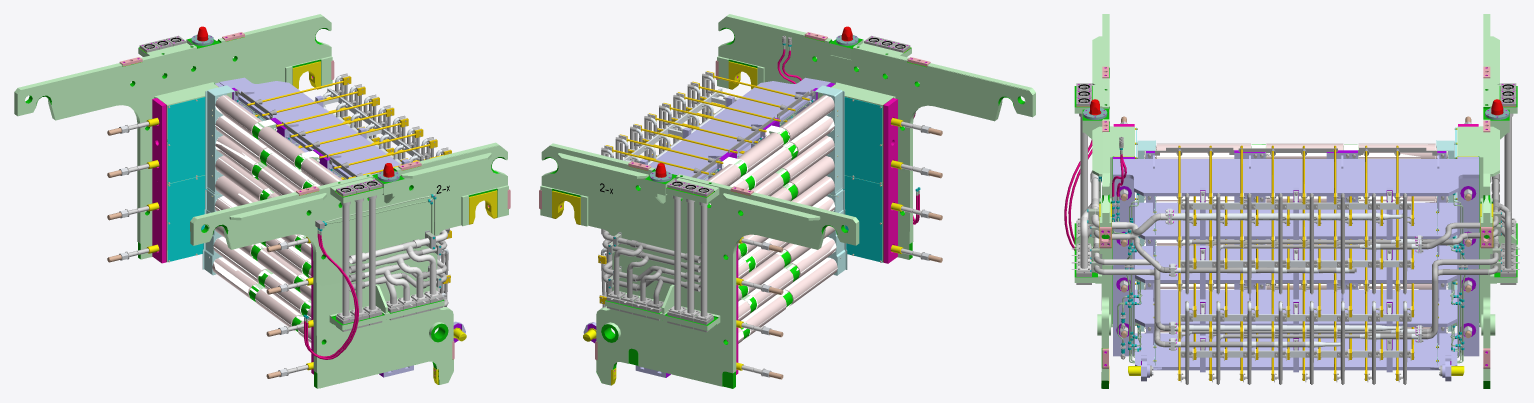
The model's file is SEGMENT_2_FIXED_SIDE_FRAME.glb.
3 views of the same model, side by side, from view 1: azimuth 30°, elevation 25°; view 2: azimuth 150°, elevation 25°; view 3: azimuth 270°, elevation 25° (orthographic). The views are drawn at different scales.
Parts seen in each view (by area): view 1: Model, ROLLSET_9, ROLLER_1_3, ROLLER_1_2, ROLLSET_2, ROLLSET_8, ROLLSET_1, ROLLER_3_2, ROLLER_3_1; view 2: Model, ROLLSET_2, ROLLSET_8, ROLLER_1_2, ROLLER_1_1, ROLLSET_9, ROLLSET_1, ROLLER_3_3, ROLLER_9_3; view 3: Model, ROLLSET_1, ROLLER_1_3, ROLLER_1_1, ROLLSET_3, ROLLER_1_2.
Part boxes in pixels (x1=…): Model: x1=14, y1=14, x2=510, y2=388; ROLLSET_9: x1=213, y1=257, x2=311, y2=340; ROLLER_1_3: x1=215, y1=95, x2=261, y2=136; ROLLER_1_2: x1=258, y1=126, x2=304, y2=167; ROLLSET_2: x1=215, y1=115, x2=319, y2=189; ROLLSET_8: x1=213, y1=236, x2=311, y2=318; ROLLSET_1: x1=215, y1=95, x2=339, y2=185; ROLLER_3_2: x1=258, y1=167, x2=296, y2=195; ROLLER_3_1: x1=215, y1=135, x2=257, y2=177; Model: x1=539, y1=14, x2=1035, y2=388; ROLLSET_2: x1=709, y1=115, x2=834, y2=204; ROLLSET_8: x1=738, y1=237, x2=836, y2=318; ROLLER_1_2: x1=737, y1=132, x2=783, y2=174; ROLLER_1_1: x1=780, y1=95, x2=834, y2=143; ROLLSET_9: x1=738, y1=257, x2=837, y2=340; ROLLSET_1: x1=709, y1=95, x2=833, y2=181; ROLLER_3_3: x1=782, y1=139, x2=834, y2=183; ROLLER_9_3: x1=787, y1=259, x2=837, y2=306; Model: x1=1064, y1=14, x2=1519, y2=388; ROLLSET_1: x1=1144, y1=144, x2=1448, y2=158; ROLLER_1_3: x1=1358, y1=143, x2=1447, y2=158; ROLLER_1_1: x1=1155, y1=143, x2=1250, y2=158; ROLLSET_3: x1=1144, y1=196, x2=1448, y2=202; ROLLER_1_2: x1=1266, y1=143, x2=1343, y2=158.
Size of the model in its own units: 3.95 by 2.82 by 4.57.
